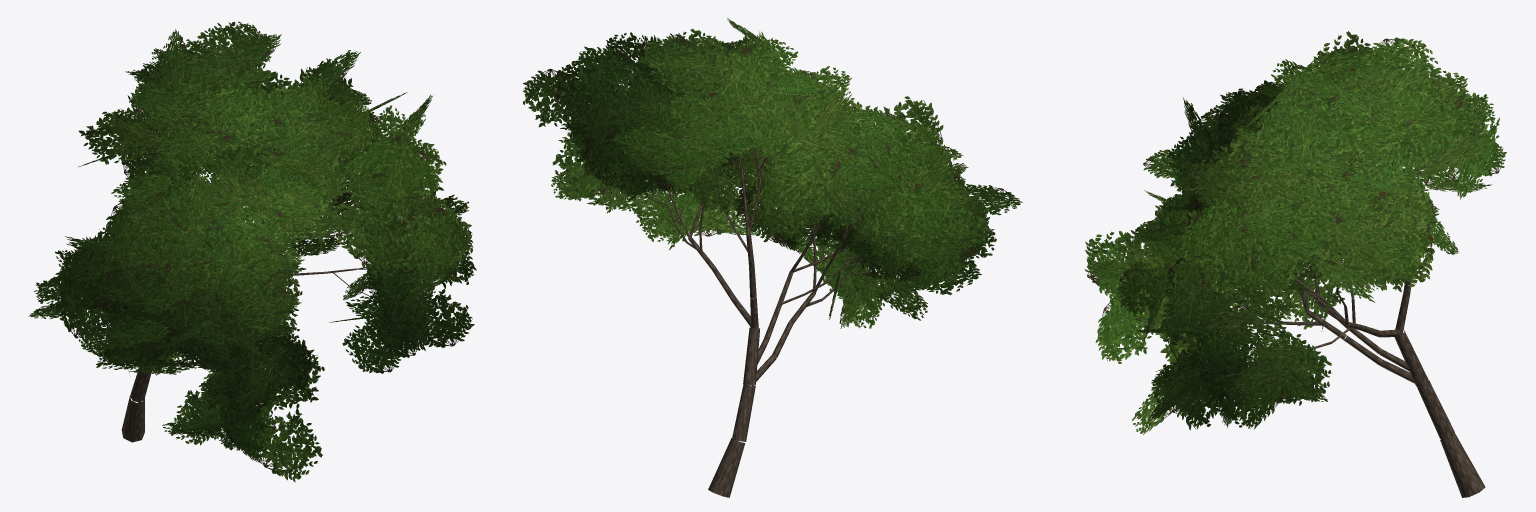
The model's file is tree_4.glb.
3 views of the same model, side by side, from view 1: azimuth 30°, elevation 25°; view 2: azimuth 150°, elevation 25°; view 3: azimuth 270°, elevation 25° (orthographic). The views are drawn at different scales.
Visible parts, largest first — view 1: Tree_4; view 2: Tree_4; view 3: Tree_4.
Boxes of the visible parts, left/top/right/bottom form: Tree_4: left=28, top=21, right=476, bottom=482; Tree_4: left=523, top=18, right=1022, bottom=497; Tree_4: left=1084, top=31, right=1506, bottom=497.
Bounding box in the file's own units: 18.64 × 17.36 × 14.8.
Materials: 2 (2 with a texture image).
